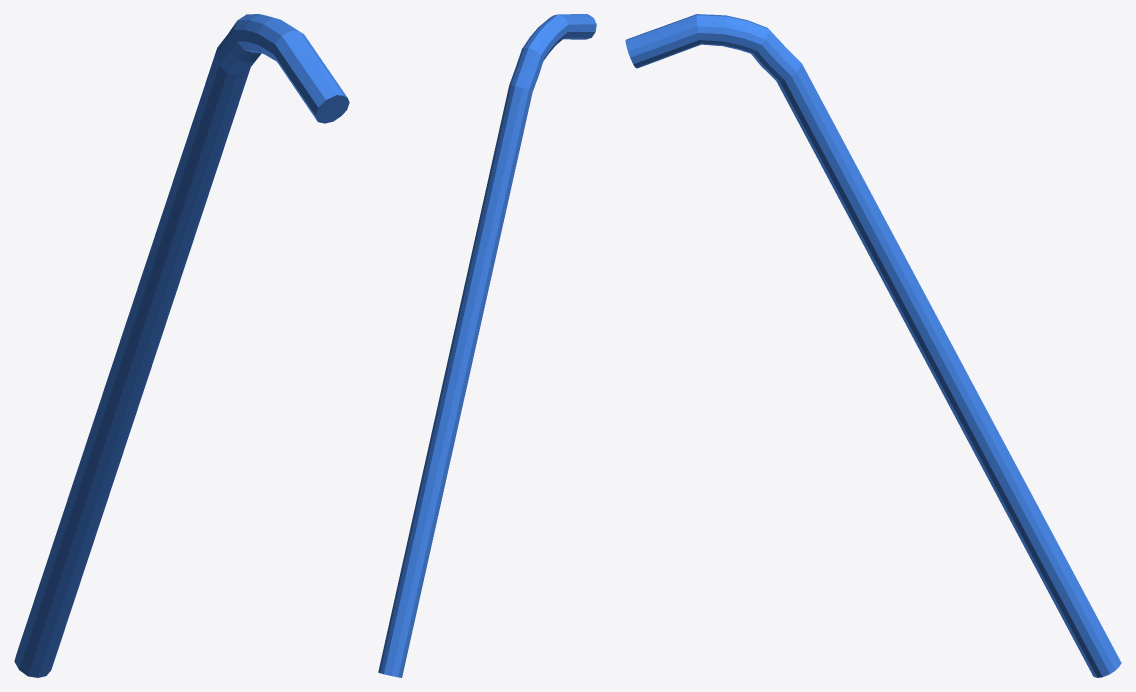
Rendered from Straw.FBX.
3 views of the same model, side by side, from view 1: azimuth 30°, elevation 25°; view 2: azimuth 150°, elevation 25°; view 3: azimuth 270°, elevation 25° (orthographic). The views are drawn at different scales.
Visible parts, largest first — view 1: Loft001; view 2: Loft001; view 3: Loft001.
Boxes of the visible parts, x1=… form: Loft001: x1=14, y1=14, x2=349, y2=677; Loft001: x1=378, y1=14, x2=596, y2=677; Loft001: x1=625, y1=14, x2=1121, y2=677.
Size of the model in its own units: 8.29 by 202 by 138.
